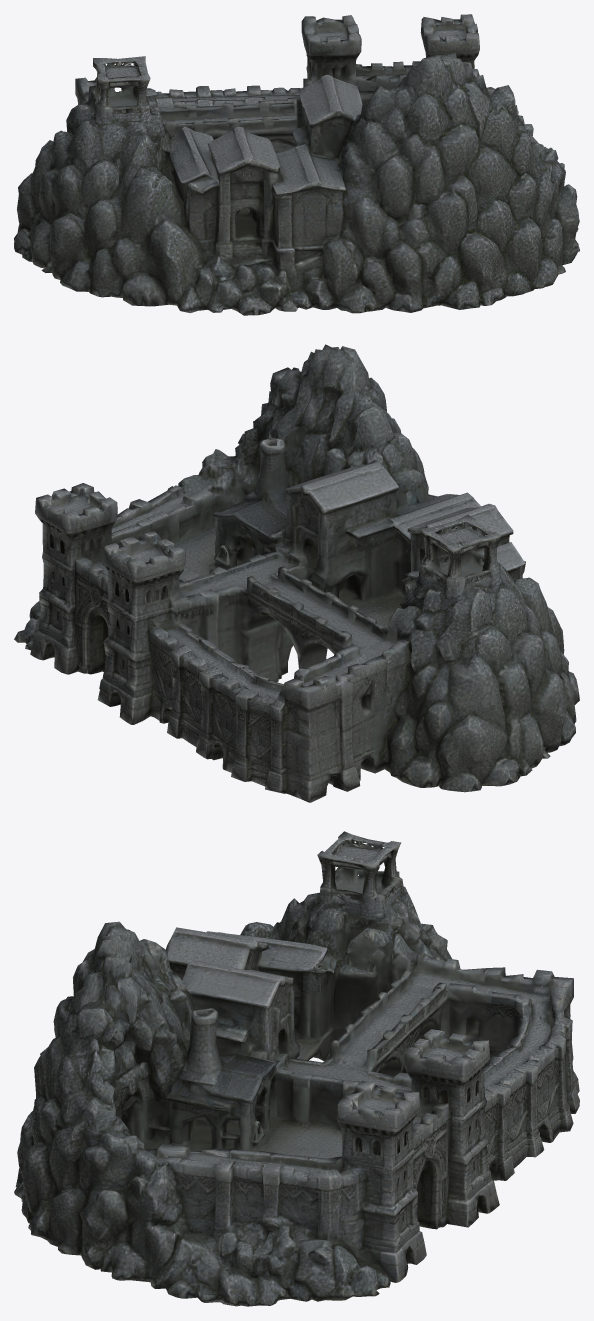
The model's file is dwarf-2.glb.
3 views of the same model, one above another, from view 1: azimuth 30°, elevation 25°; view 2: azimuth 150°, elevation 25°; view 3: azimuth 270°, elevation 25° (orthographic). The views are drawn at different scales.
Parts seen in each view (by area): view 1: tripo_node_cd7c79f0-284c-4bd1-a350-ba2d301f4ffb; view 2: tripo_node_cd7c79f0-284c-4bd1-a350-ba2d301f4ffb; view 3: tripo_node_cd7c79f0-284c-4bd1-a350-ba2d301f4ffb.
Part boxes in pixels (bbox=[...]): tripo_node_cd7c79f0-284c-4bd1-a350-ba2d301f4ffb: bbox=[14, 14, 579, 315]; tripo_node_cd7c79f0-284c-4bd1-a350-ba2d301f4ffb: bbox=[14, 344, 579, 802]; tripo_node_cd7c79f0-284c-4bd1-a350-ba2d301f4ffb: bbox=[14, 831, 579, 1306].
Size of the model in its own units: 1 by 0.47 by 0.8691.
1 material, 1 textured.
